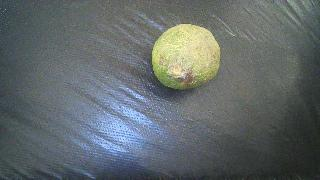DESECHO: (152, 24, 221, 90)
